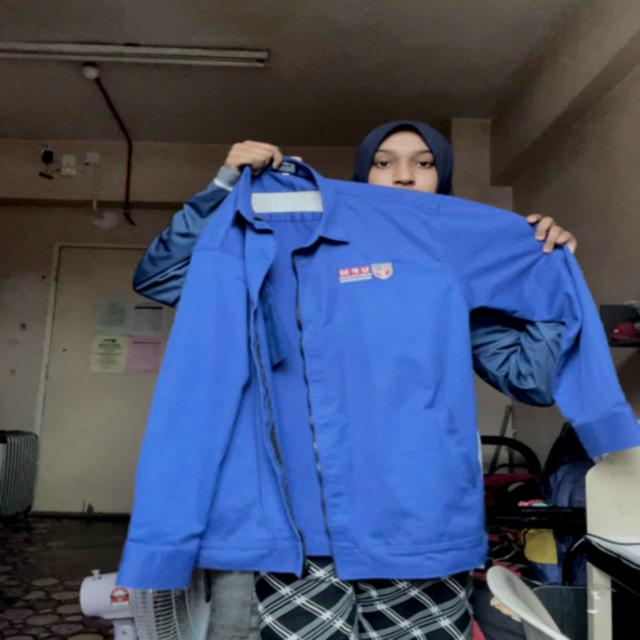person_without_labcoat: (118, 121, 639, 640)
